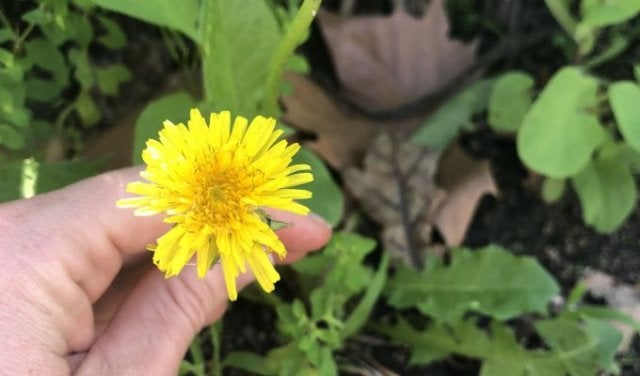dandelion: (134, 126, 290, 264)
